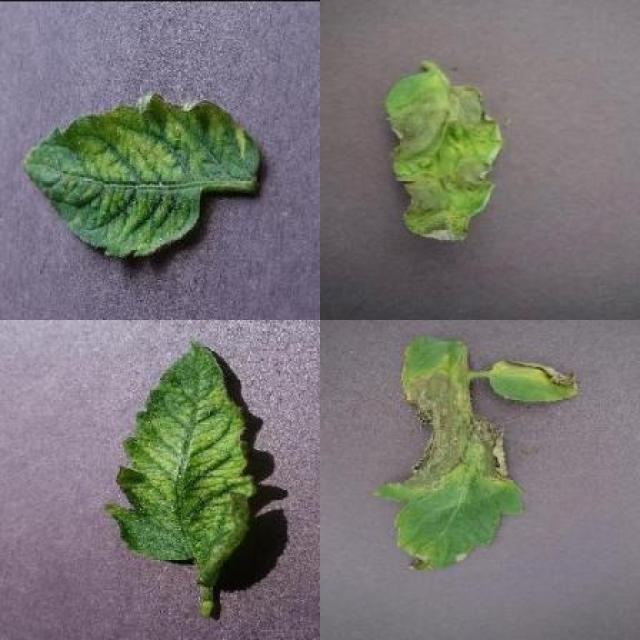Late Blight: (373, 337, 524, 572), (382, 70, 505, 244), (488, 357, 579, 407)
Mosaic Virus: (22, 93, 264, 260), (99, 340, 255, 583)
